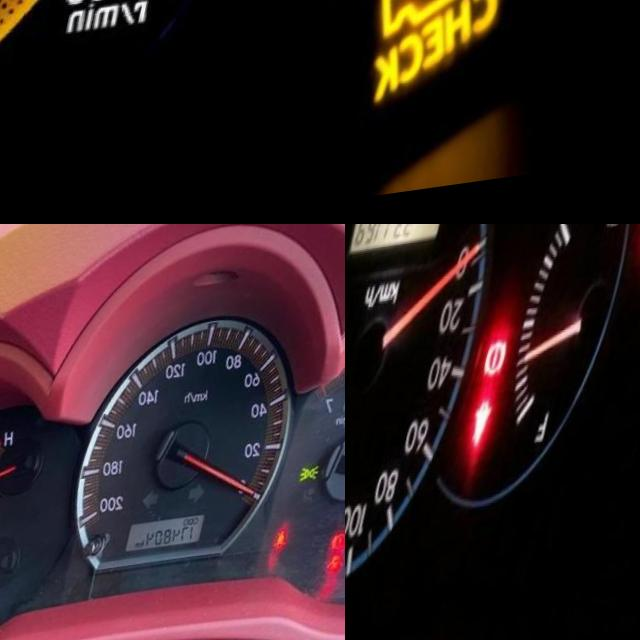Seat Belt: (486, 408, 514, 458), (293, 542, 308, 562)
